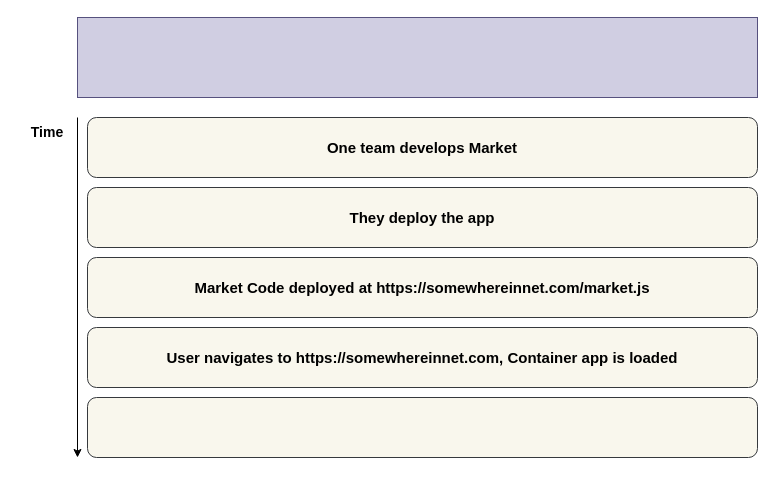
The diagram is 775 pixels wide and 483 high, and some of its shapes have lost their labels. The shapes that lost their labels are listed below. From the top down, each one's centre as x and y in pixels, then its label:
At (417,57): "Run-Time Integration".
At (422,427): "Container app fetches market.js and execute it".
